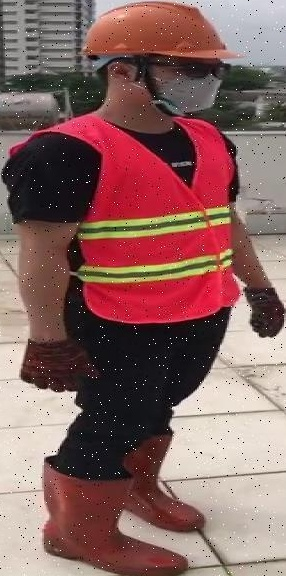boots: (41, 457, 188, 576), (122, 428, 205, 532)
gloves: (20, 337, 100, 392), (242, 286, 284, 338)
hard-hat: (80, 0, 243, 70)
vest: (0, 111, 242, 325)
